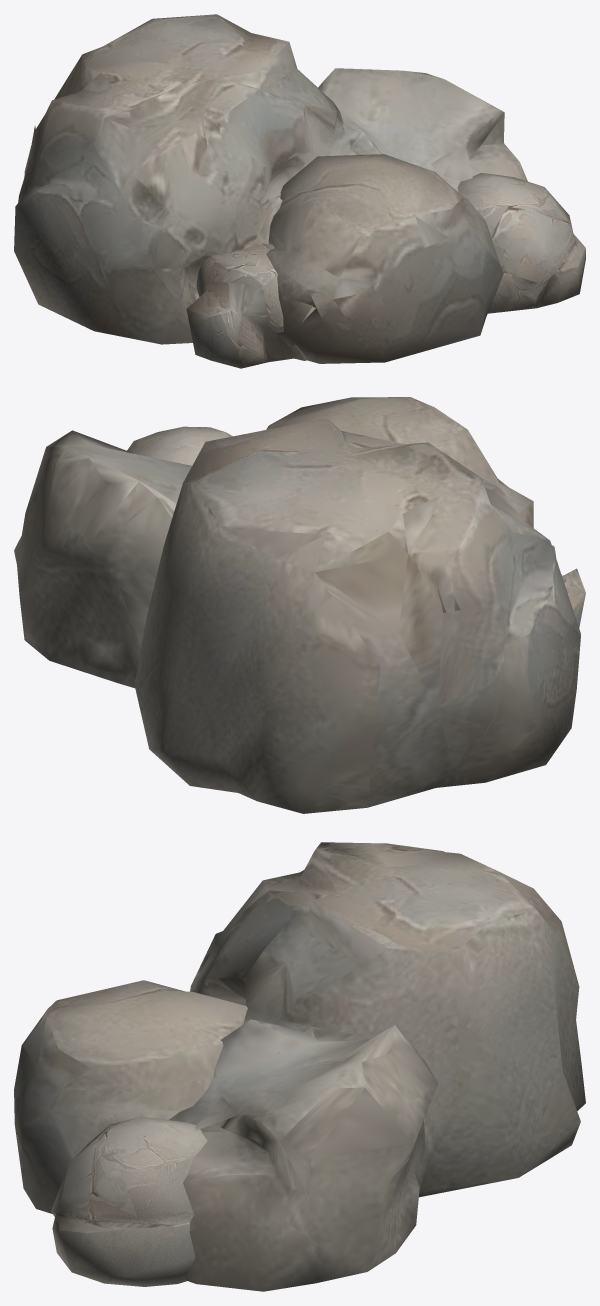
File: cliff_pile.gltf
The picture shows the model from 3 angles, top to bottom: view 1: azimuth 30°, elevation 25°; view 2: azimuth 150°, elevation 25°; view 3: azimuth 270°, elevation 25°; orthographic projection. The views are drawn at different scales.
Parts seen in each view (by area): view 1: cliff_pile; view 2: cliff_pile; view 3: cliff_pile.
Part boxes in pixels (bbox=[...]): cliff_pile: bbox=[14, 14, 585, 368]; cliff_pile: bbox=[14, 397, 585, 813]; cliff_pile: bbox=[14, 842, 585, 1291].
Bounding box in the file's own units: 1.38 × 0.6 × 1.24.
Materials: 1 (1 with a texture image).
